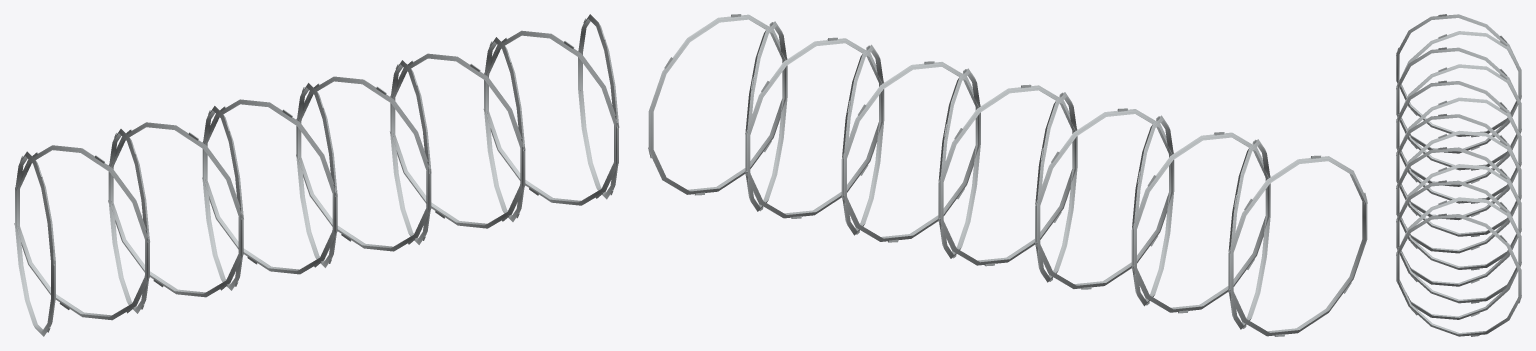
Rendered from razor_coil.fbx.
3 views of the same model, side by side, from view 1: azimuth 30°, elevation 25°; view 2: azimuth 150°, elevation 25°; view 3: azimuth 270°, elevation 25° (orthographic). The views are drawn at different scales.
Parts seen in each view (by area): view 1: razor_coil; view 2: razor_coil; view 3: razor_coil.
Boxes of the visible parts, x1,y1,x2,y2 form: razor_coil: (14,14,619,336); razor_coil: (648,14,1367,336); razor_coil: (1396,14,1521,336).
Bounding box in the file's own units: 1.96 × 0.516 × 0.4799.
1 material, 1 textured.
